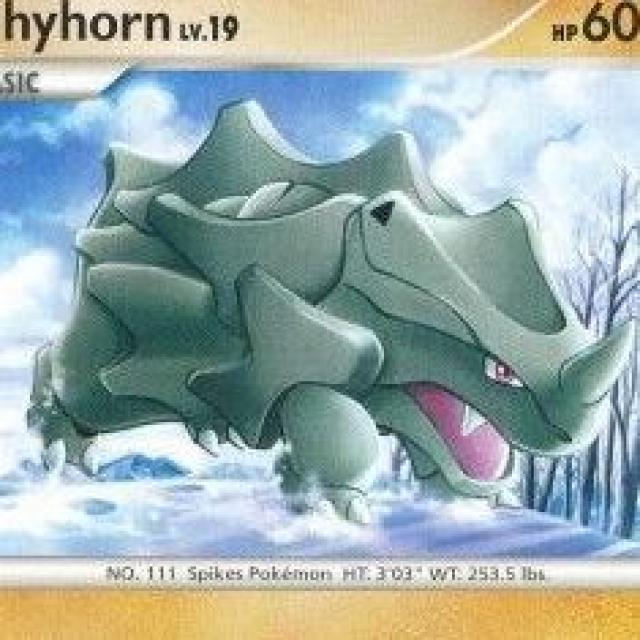Rhyhorn: (26, 98, 611, 502)
